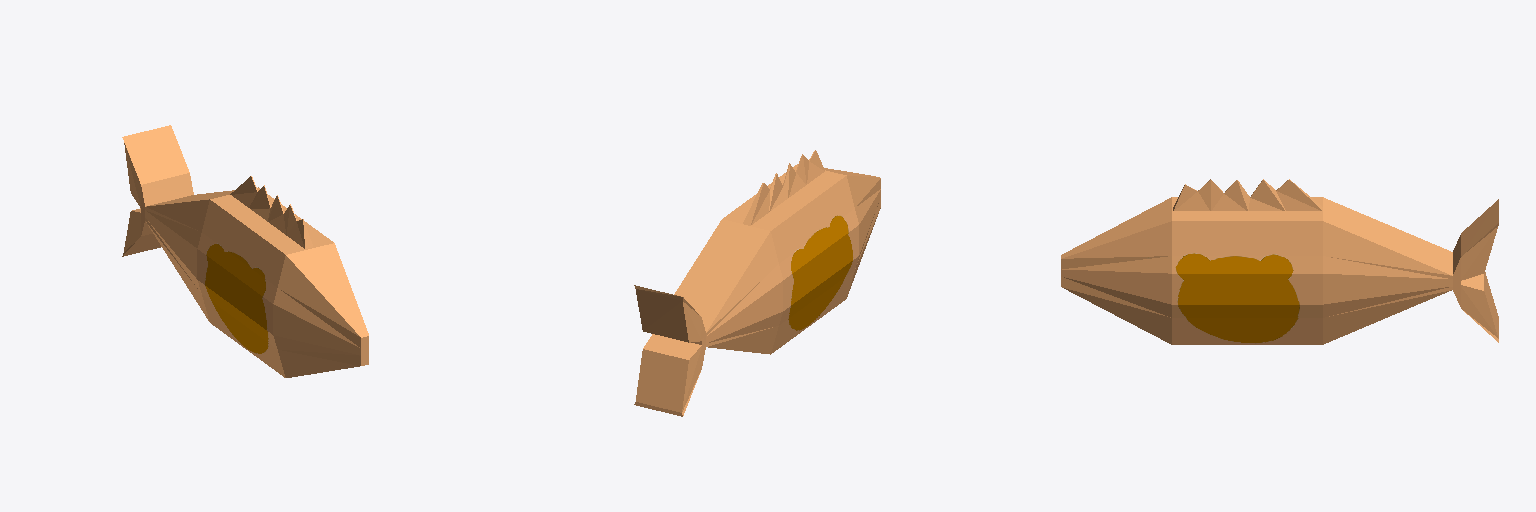
3 views of the same model, side by side, from view 1: azimuth 30°, elevation 25°; view 2: azimuth 150°, elevation 25°; view 3: azimuth 270°, elevation 25° (orthographic).
Visible parts, largest first — view 1: 立方体, 立方体.001; view 2: 立方体, 立方体.001; view 3: 立方体, 立方体.001.
Part boxes in pixels (left/top/right/bottom): 立方体: left=122, top=125, right=368, bottom=377; 立方体.001: left=230, top=176, right=312, bottom=248; 立方体: left=634, top=164, right=880, bottom=416; 立方体.001: left=743, top=150, right=824, bottom=225; 立方体: left=1061, top=197, right=1498, bottom=344; 立方体.001: left=1173, top=179, right=1322, bottom=210.
Size of the model in its own units: 1.25 by 2.49 by 6.42.
Materials: 2 (1 with a texture image).